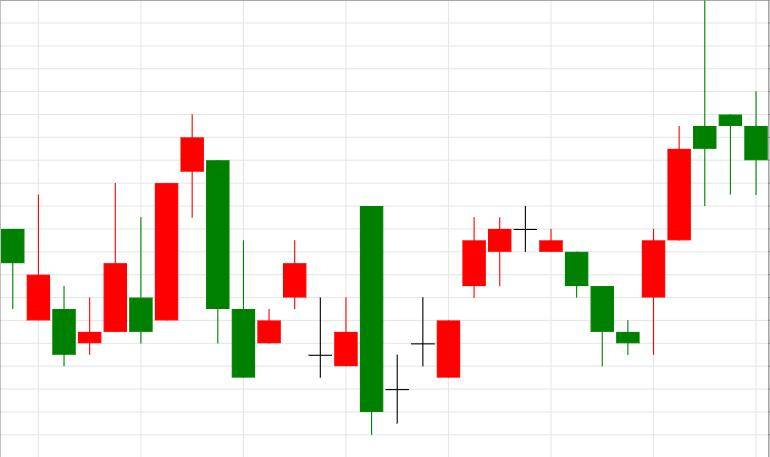morning_star_rise: (488, 206, 665, 366)
